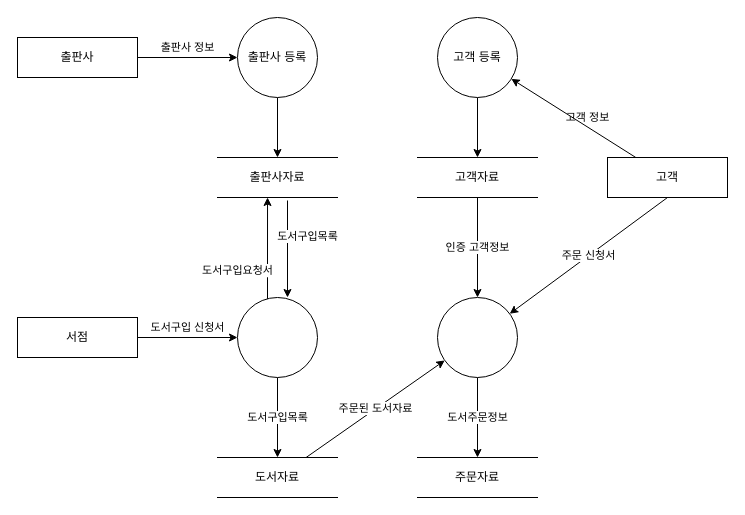
Some shapes in this 745 by 515 pixel diagram are drawn without their labels. The shapes that lost their labels are listed below. From the top down, each one's centre as x and y in pixels, then its label:
At [277,337]: "도서구입".
At [477,337]: "도서주문".
